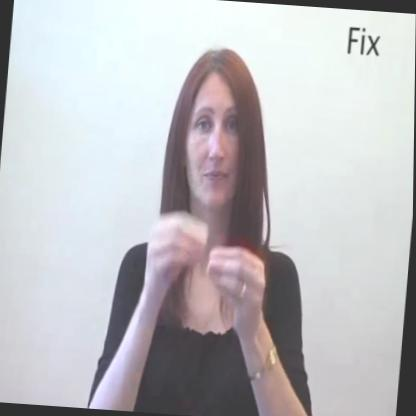Fix: (133, 189, 281, 354)
